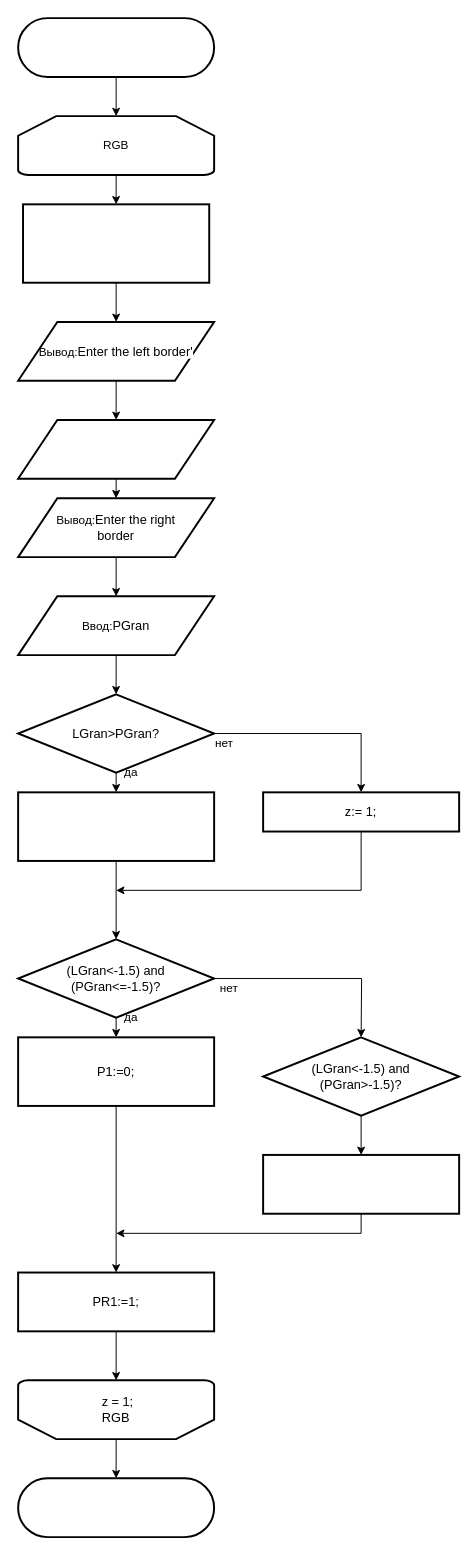
Image size: 476x1554. Some labels were removed from this diagram. Each missing label, with the centre of its shape:
Enteringboundaries; Начало: the point at 116,47
LGran:=-1.5;: the point at 361,1183
P1:=1; clrscr; Textcolor (15); z:= 0;: the point at 116,243
Smen:=LGran; LGran:=PGran; PGran:=Smen; z:= 1;: the point at 116,826
Ввод: LGran: the point at 116,448
Конец: the point at 116,1507
